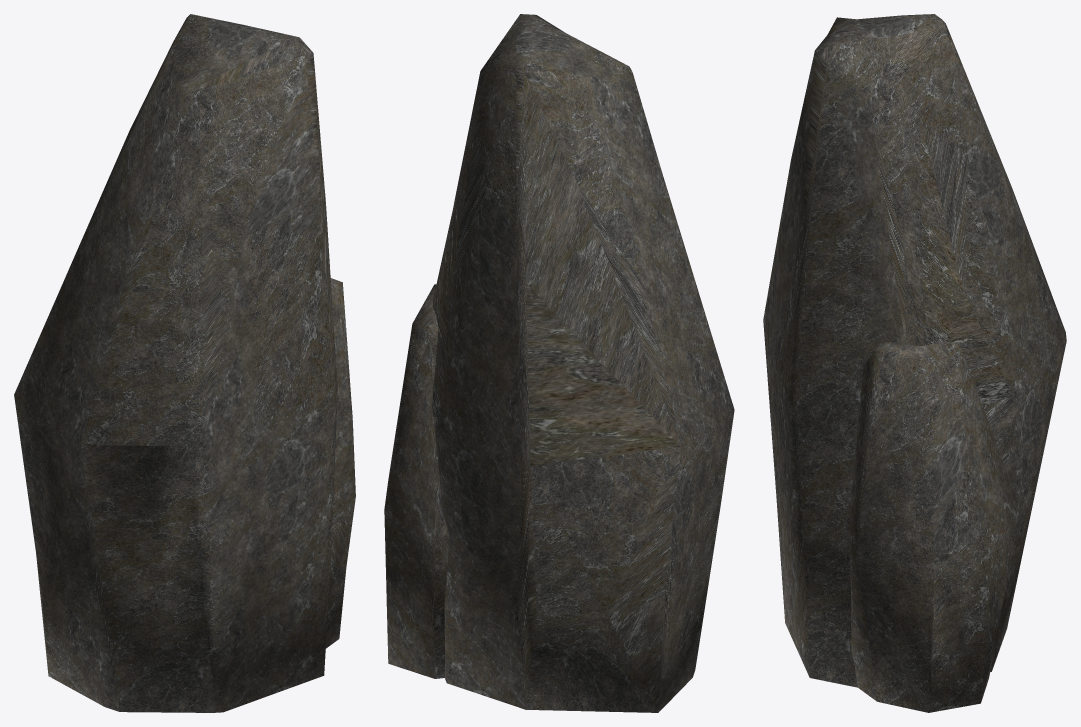
The model's file is upright_crag_LOD2.fbx.
3 renders of one model, left to right at view 1: azimuth 30°, elevation 25°; view 2: azimuth 150°, elevation 25°; view 3: azimuth 270°, elevation 25°, orthographic. The views are drawn at different scales.
Parts seen in each view (by area): view 1: upright_crag_LOD2; view 2: upright_crag_LOD2; view 3: upright_crag_LOD2.
Boxes of the visible parts, x1=… form: upright_crag_LOD2: x1=14, y1=14, x2=355, y2=712; upright_crag_LOD2: x1=384, y1=14, x2=734, y2=712; upright_crag_LOD2: x1=763, y1=14, x2=1066, y2=712.
Bounding box in the file's own units: 259 × 499 × 218.
